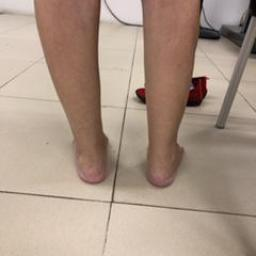Back View -Both Feet-: (56, 104, 202, 202)
